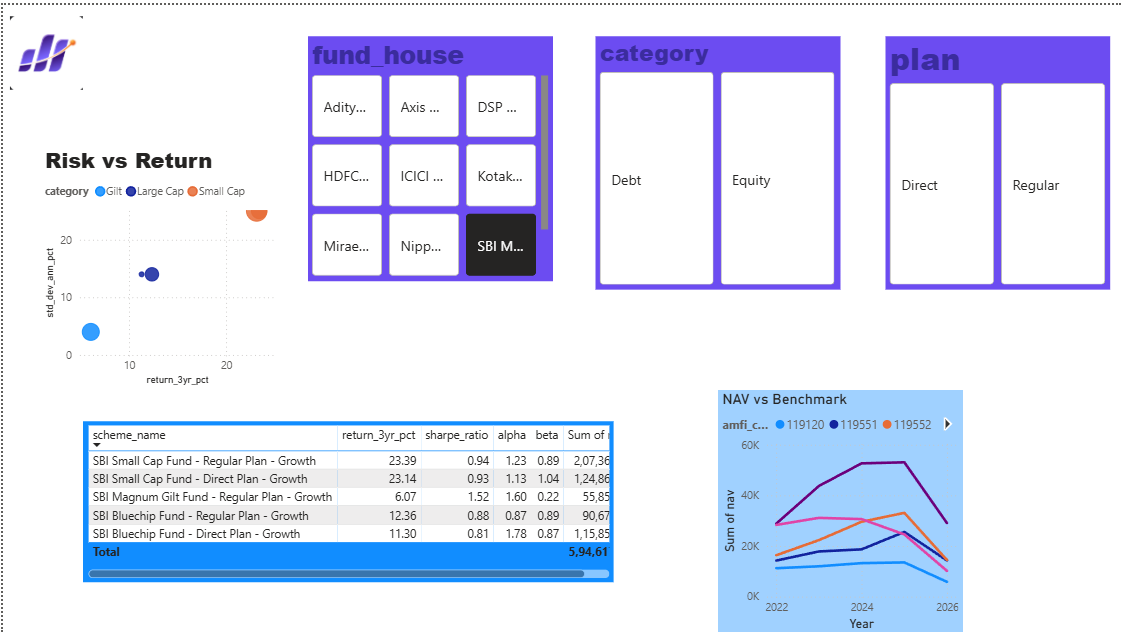

This screenshot's page, from the dashboard's own definition file:
{"tool":"powerbi","page":{"name":"Page 2","canvas":[1280,720],"ordinal":1},"visuals":[{"type":"scatterChart","title":"Risk vs Return","fields":{"X":["07_scheme_performance.return_3yr_pct"],"Y":["07_scheme_performance.std_dev_ann_pct"],"Series":["07_scheme_performance.category"],"Size":["Sum(07_scheme_performance.aum_crore)"]},"box":[42.5,160.5,279.9,279.9],"z":0},{"type":"tableEx","fields":{"Values":["07_scheme_performance.scheme_name","07_scheme_performance.return_3yr_pct","07_scheme_performance.sharpe_ratio","07_scheme_performance.alpha","07_scheme_performance.beta","Sum(02_nav_history.nav)"]},"box":[91.9,476.2,606.5,183.9],"z":1000},{"type":"lineChart","title":"NAV vs Benchmark","fields":{"Category":["02_nav_history.date.Variation.Date Hierarchy.Year","02_nav_history.date.Variation.Date Hierarchy.Quarter","02_nav_history.date.Variation.Date Hierarchy.Month","02_nav_history.date.Variation.Date Hierarchy.Day"],"Y":["Sum(02_nav_history.nav)"],"Series":["02_nav_history.amfi_code"]},"box":[816.5,440.5,279.9,279.9],"z":2000},{"type":"advancedSlicerVisual","fields":{"Values":["01_fund_master.fund_house"]},"box":[348.5,35.7,279.9,279.9],"z":3000},{"type":"advancedSlicerVisual","fields":{"Values":["01_fund_master.category"]},"box":[676.5,35.7,279.9,289.5],"z":4000},{"type":"advancedSlicerVisual","fields":{"Values":["01_fund_master.plan"]},"box":[1008.6,35.7,256.6,289.5],"z":5000},{"type":"image","box":[6.9,12.3,85.1,83.7],"z":5001}]}

Visuals, with their boxes in screenshot pixels (x1, y1, x2, y2), scaled from the page's 1280x720 canvas onto the 1122x632 screenshot:
"Risk vs Return" scatterChart: [x1=37, y1=141, x2=283, y2=387]
tableEx - 07_scheme_performance.scheme_name x 07_scheme_performance.return_3yr_pct: [x1=81, y1=418, x2=612, y2=579]
"NAV vs Benchmark" lineChart: [x1=716, y1=387, x2=961, y2=631]
advancedSlicerVisual - 01_fund_master.fund_house: [x1=305, y1=31, x2=551, y2=277]
advancedSlicerVisual - 01_fund_master.category: [x1=593, y1=31, x2=838, y2=285]
advancedSlicerVisual - 01_fund_master.plan: [x1=884, y1=31, x2=1109, y2=285]
image: [x1=6, y1=11, x2=81, y2=84]
